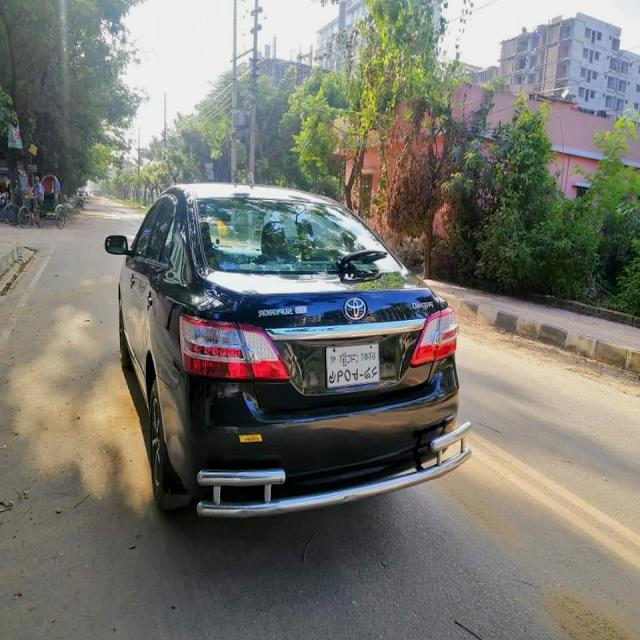black: (99, 190, 472, 518)
